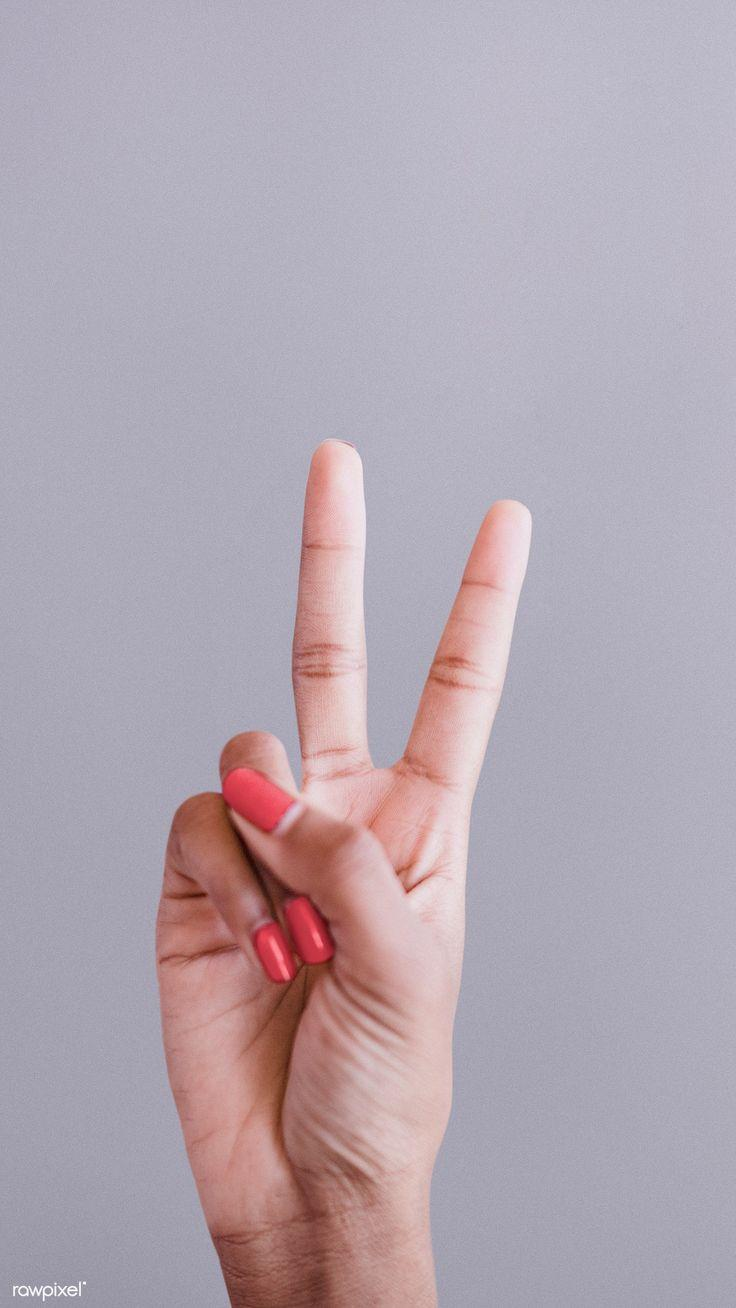peace_sign: (131, 421, 558, 1261)
